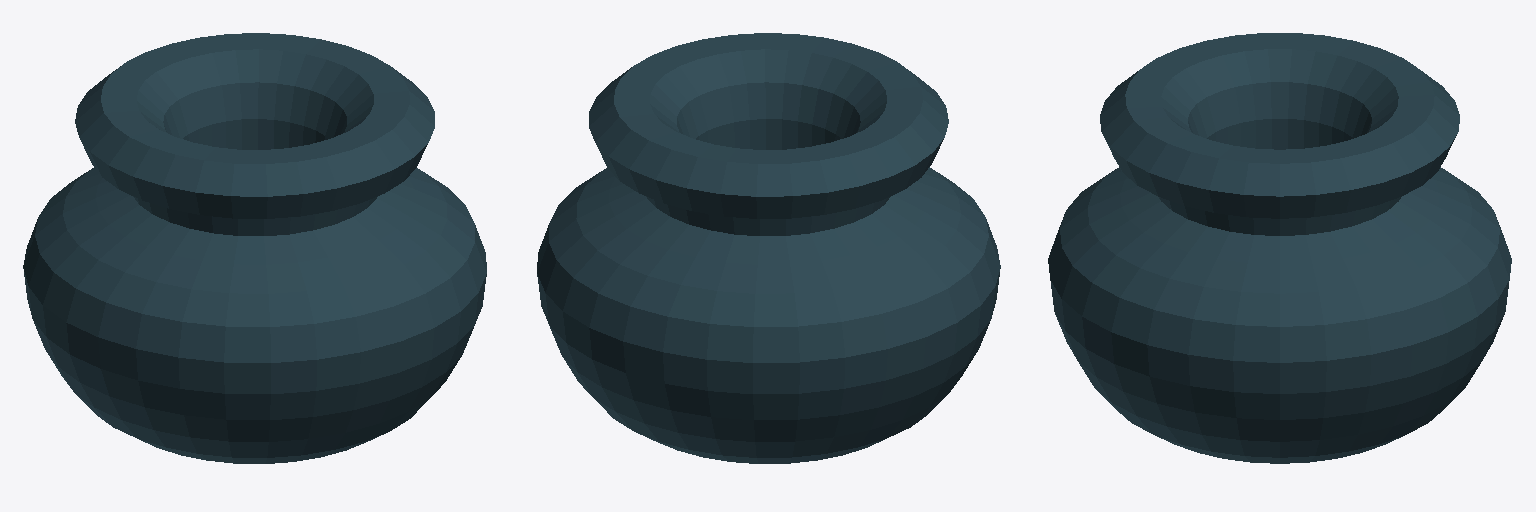
The model's file is Fishbowl_unit_7_take_6.obj.
3 renders of one model, left to right at view 1: azimuth 30°, elevation 25°; view 2: azimuth 150°, elevation 25°; view 3: azimuth 270°, elevation 25°, orthographic.
Parts seen in each view (by area): view 1: SmootherBowl:BetterBowl; view 2: SmootherBowl:BetterBowl; view 3: SmootherBowl:BetterBowl.
Part boxes in pixels (bbox=[...]): SmootherBowl:BetterBowl: bbox=[23, 33, 486, 463]; SmootherBowl:BetterBowl: bbox=[537, 33, 1000, 463]; SmootherBowl:BetterBowl: bbox=[1048, 33, 1511, 463].
Bounding box in the file's own units: 42.59 × 31.82 × 42.48.